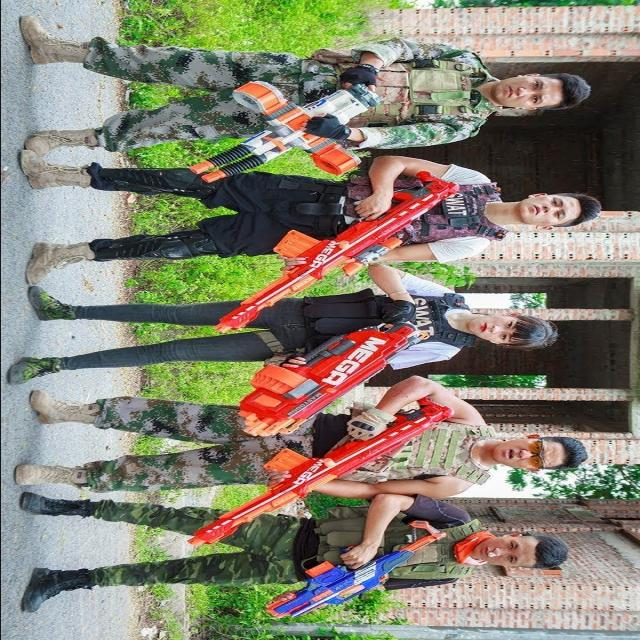Nerf gun: (173, 395, 478, 547), (208, 167, 462, 336), (227, 305, 441, 441), (192, 70, 394, 190), (250, 519, 452, 627)
